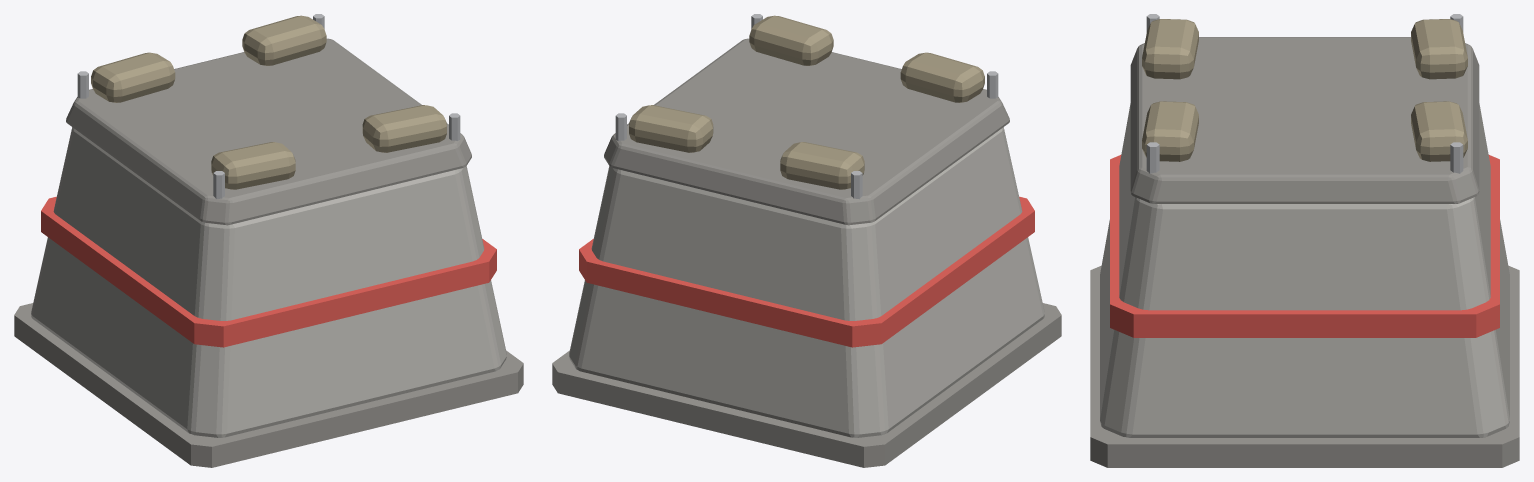
Rendered from wall_red.glb.
3 views of the same model, side by side, from view 1: azimuth 30°, elevation 25°; view 2: azimuth 150°, elevation 25°; view 3: azimuth 270°, elevation 25° (orthographic). The views are drawn at different scales.
Visible parts, largest first — view 1: Body; view 2: Body; view 3: Body.
Part boxes in pixels (x1=…): Body: x1=14, y1=14, x2=523, y2=467; Body: x1=552, y1=14, x2=1061, y2=467; Body: x1=1090, y1=14, x2=1519, y2=467.
Size of the model in its own units: 1.98 by 1.54 by 1.98.
